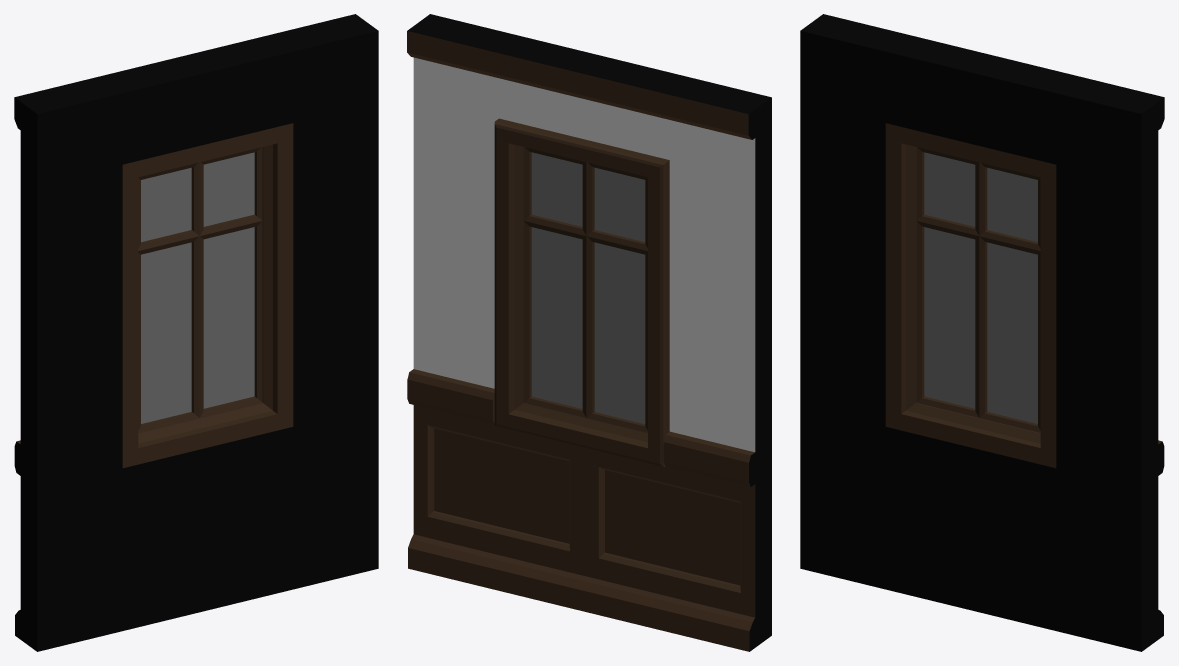
File: Wall_Window_Broken.fbx
The picture shows the model from 3 angles, left to right: view 1: azimuth 30°, elevation 25°; view 2: azimuth 150°, elevation 25°; view 3: azimuth 330°, elevation 25°; orthographic projection.
Parts seen in each view (by area): view 1: Cube.211, Cube.212; view 2: Cube.211, Cube.212; view 3: Cube.211, Cube.212.
Part boxes in pixels (<box>): Cube.211: <box>14,14,378,651</box>; Cube.212: <box>122,123,293,468</box>; Cube.211: <box>407,14,771,651</box>; Cube.212: <box>494,118,669,466</box>; Cube.211: <box>800,14,1164,651</box>; Cube.212: <box>885,123,1056,468</box>.
Size of the model in its own units: 0.2334 by 2 by 3.01.
